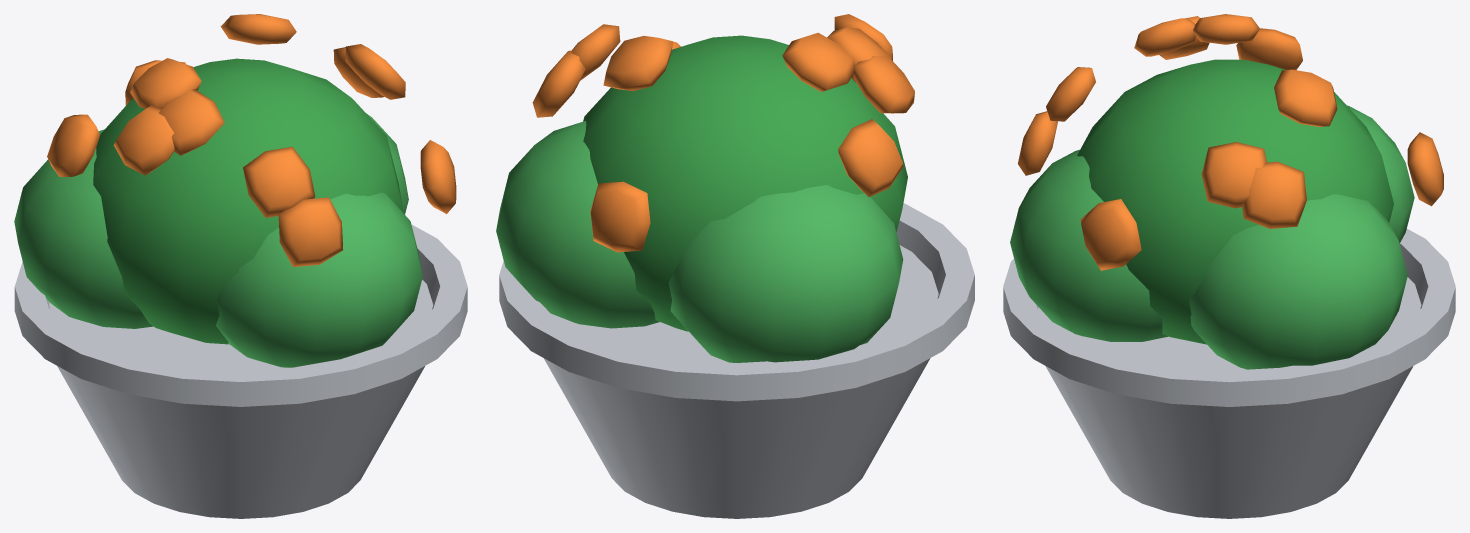
Rendered from floreira_redonda.glb.
3 views of the same model, side by side, from view 1: azimuth 30°, elevation 25°; view 2: azimuth 150°, elevation 25°; view 3: azimuth 270°, elevation 25° (orthographic). The views are drawn at different scales.
Parts seen in each view (by area): view 1: floreira_redonda; view 2: floreira_redonda; view 3: floreira_redonda.
Part boxes in pixels (x1,y1,x2,y2): floreira_redonda: (14,14,467,518); floreira_redonda: (496,14,974,518); floreira_redonda: (1003,14,1455,518).
Size of the model in its own units: 1.32 by 1.35 by 1.32.
1 material, 1 textured.
